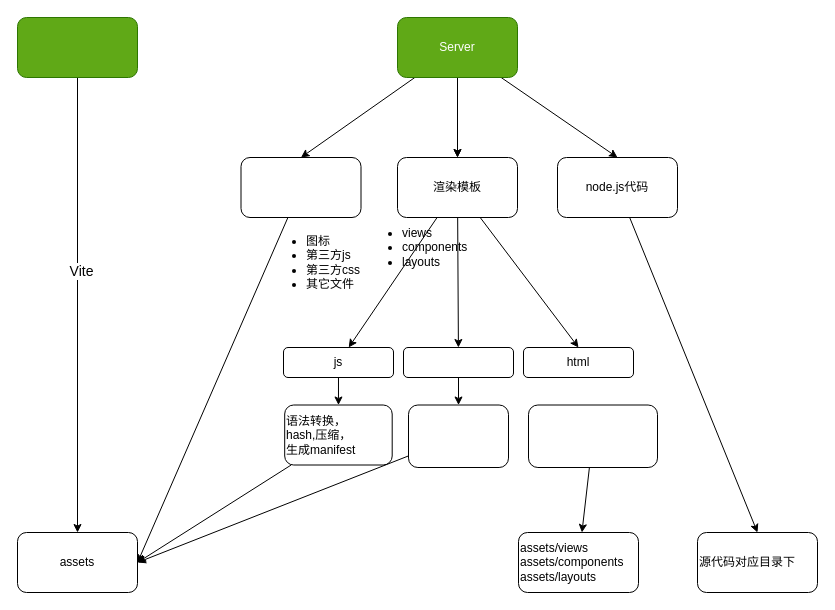
Image size: 835x610. Some labels were removed from this diagram. The box of each missing label's shape, as (x1, y1, x2, y2) in pixels:
css: (402, 346, 514, 378)
Web: (16, 16, 138, 78)
根据manifest更新引用 压缩: (528, 404, 658, 468)
语法转换， 压缩，hash 生成manifest: (408, 404, 508, 468)
静态资源: (240, 156, 361, 218)
